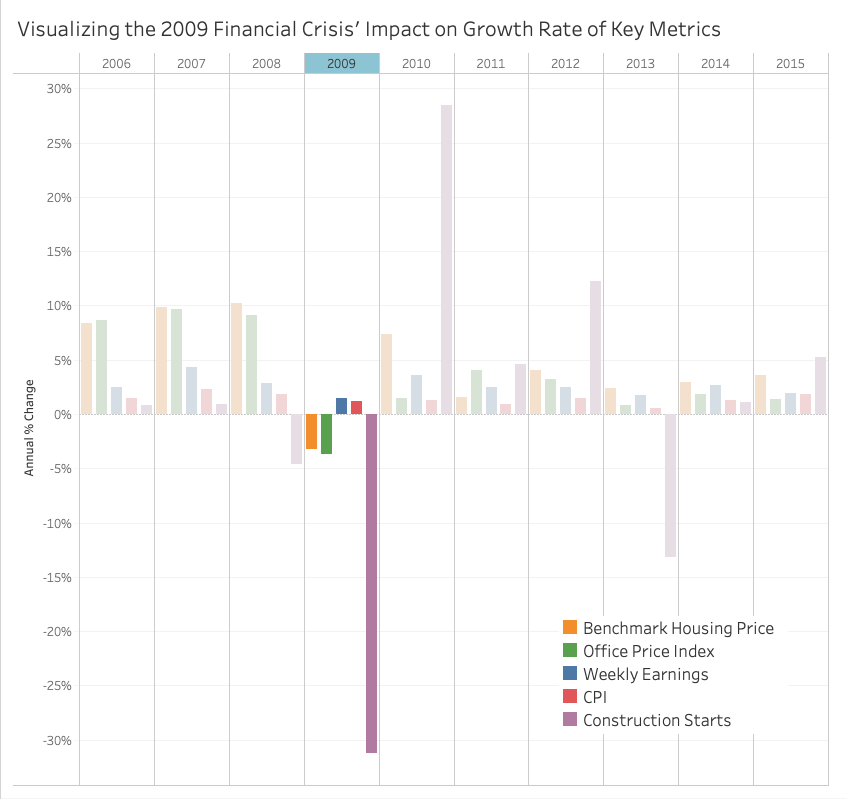

Layout of this report page (visuals, bound fields, positions):
{"tool":"tableau","page":{"name":"Task 8.1","canvas":[1000,800],"ordinal":5},"visuals":[{"type":"worksheet","title":"Task 8 | Economic Crises - 2009 (2)","mark":"Bar","cols":["Date (appended data)"],"box":[8,8,824,784]},{"type":"legend","title":"Task 8 | Economic Crises - 2009 (2)","param":"[federated.1okl8ay0m9et4017je1rc01q96pp].[:Measure Names]","box":[558,618,229,118]}]}

Visuals, with their boxes on the page's 1000x800 design canvas (x1, y1, x2, y2). These are canvas units, not pixel positions in the 846x799 screenshot, which may show the page scaled, cropped or inside an application window:
"Task 8 | Economic Crises - 2009 (2)" worksheet (Bar marks): detection(8, 8, 832, 792)
"Task 8 | Economic Crises - 2009 (2)" legend: detection(558, 618, 787, 736)
